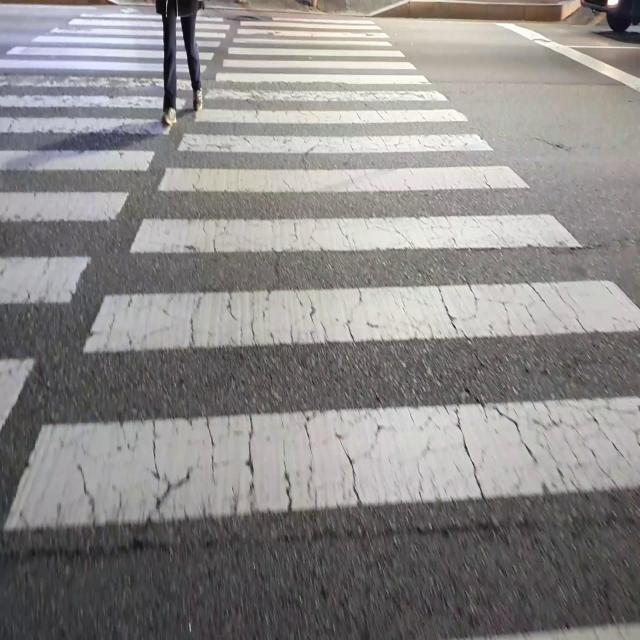crosswalk: (1, 4, 639, 549)
